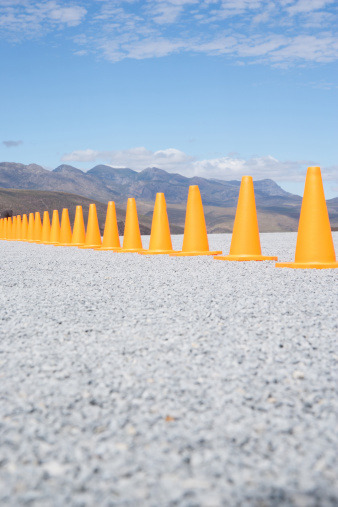trafficcone: (276, 167, 337, 269), (215, 175, 278, 261), (171, 185, 220, 257), (139, 192, 176, 254), (114, 196, 144, 253), (95, 200, 119, 252), (78, 204, 102, 248), (69, 205, 89, 247), (57, 208, 71, 247)
